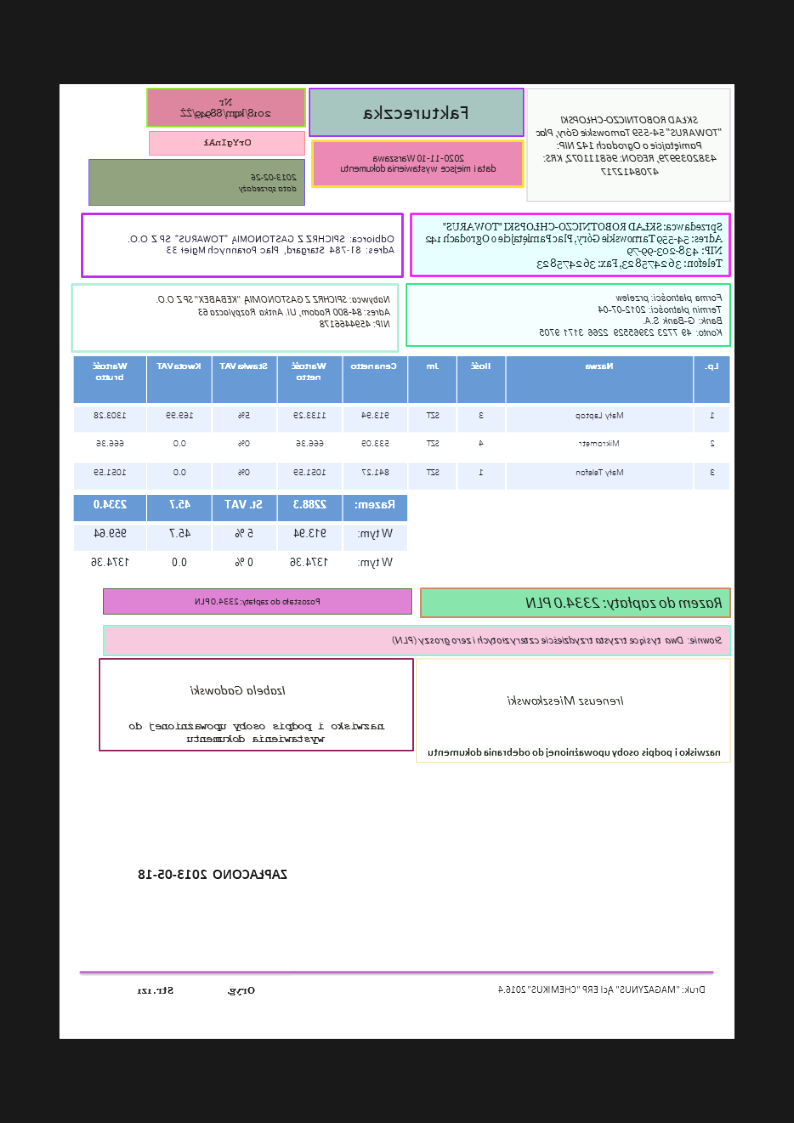Table: (71, 355, 732, 491), (71, 493, 410, 581)
TextBox: (422, 219, 725, 270), (531, 112, 724, 180), (152, 292, 393, 331), (536, 290, 725, 339), (125, 230, 399, 258), (126, 718, 388, 746), (391, 632, 723, 648), (426, 743, 723, 760), (524, 592, 725, 613), (497, 981, 707, 999), (338, 152, 499, 175), (134, 865, 292, 882), (179, 94, 274, 122), (506, 690, 627, 710), (362, 103, 471, 122), (187, 680, 288, 700), (190, 593, 324, 607), (134, 983, 258, 998), (236, 171, 299, 197), (202, 135, 254, 151)
